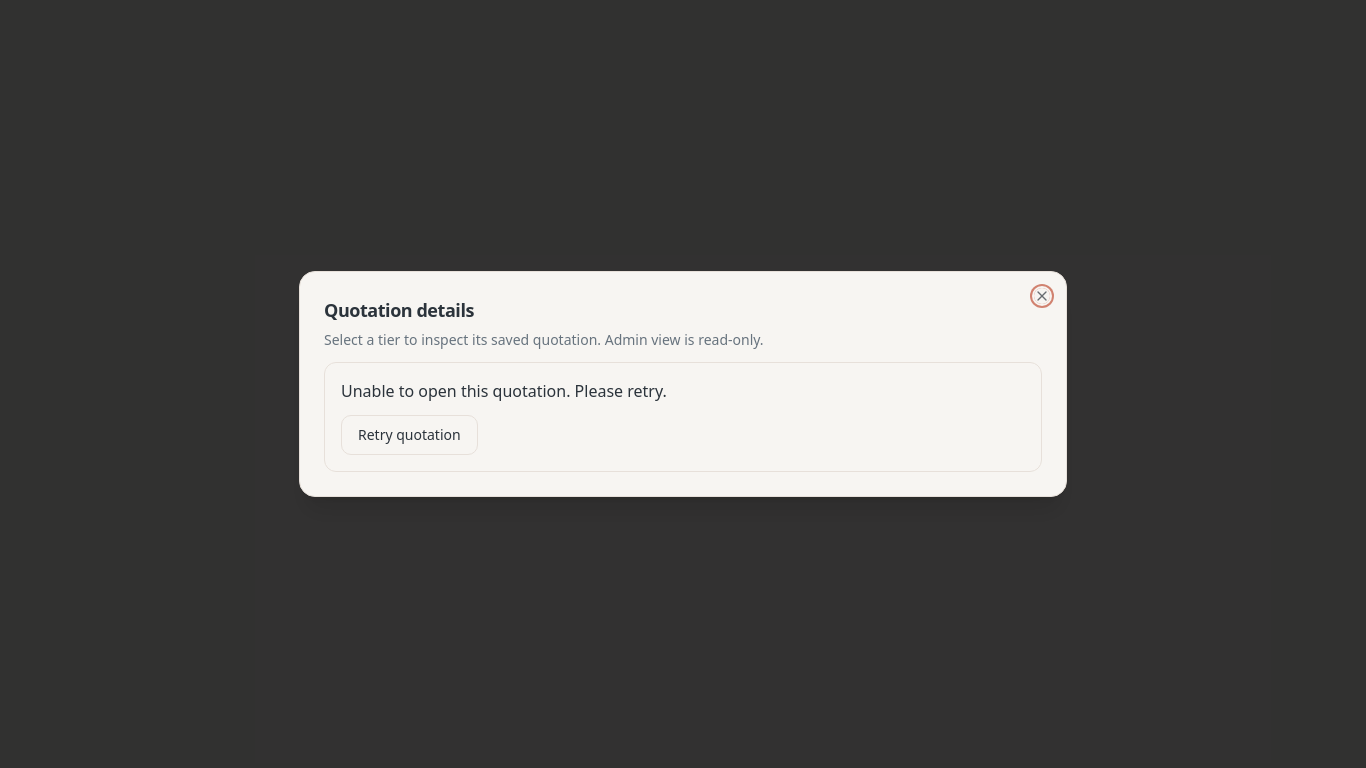
handles denied or failed reads without exposing stale content and allows retry
expect the message shows "Unable to open this quotation": met, box [341,380,667,402]
Click the button "Retry quotation": (409, 435) [341,415,478,455]
(page scrolled)
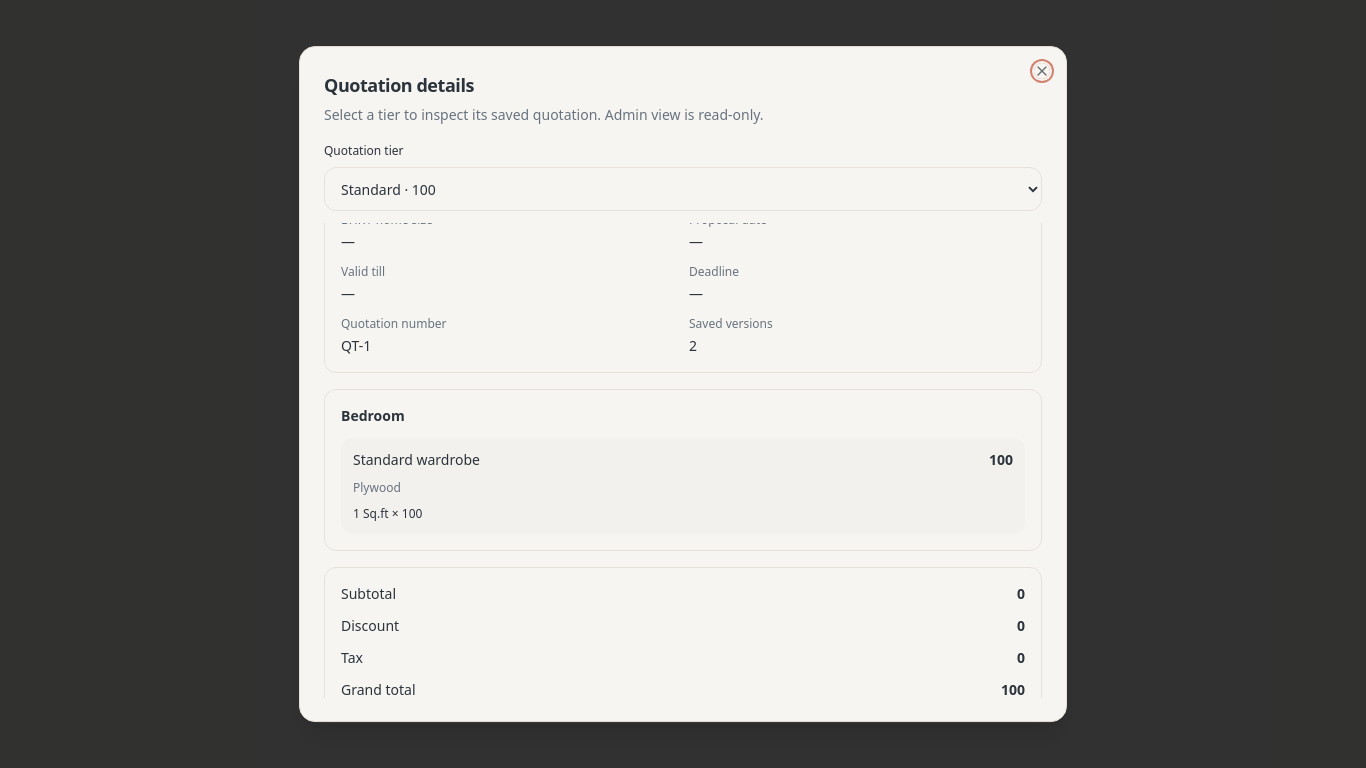
expect the heading "Standard wardrobe" is shown: met, box [353,450,480,470]
